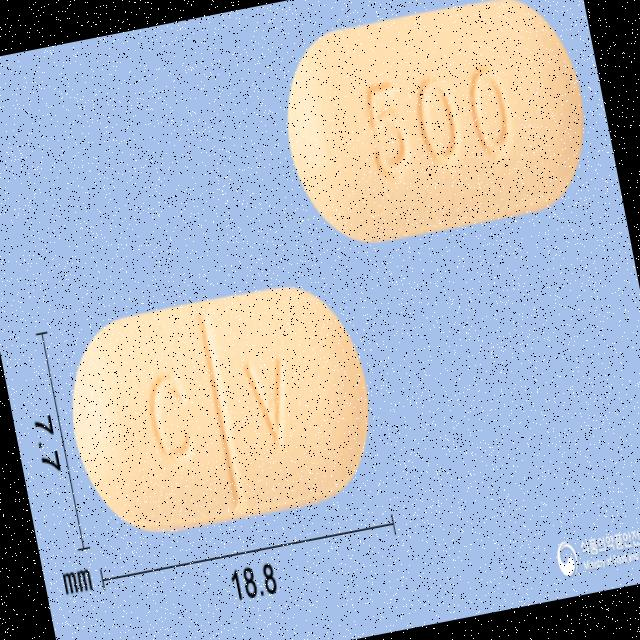Cravit: (54, 270, 386, 546), (269, 0, 602, 254)
